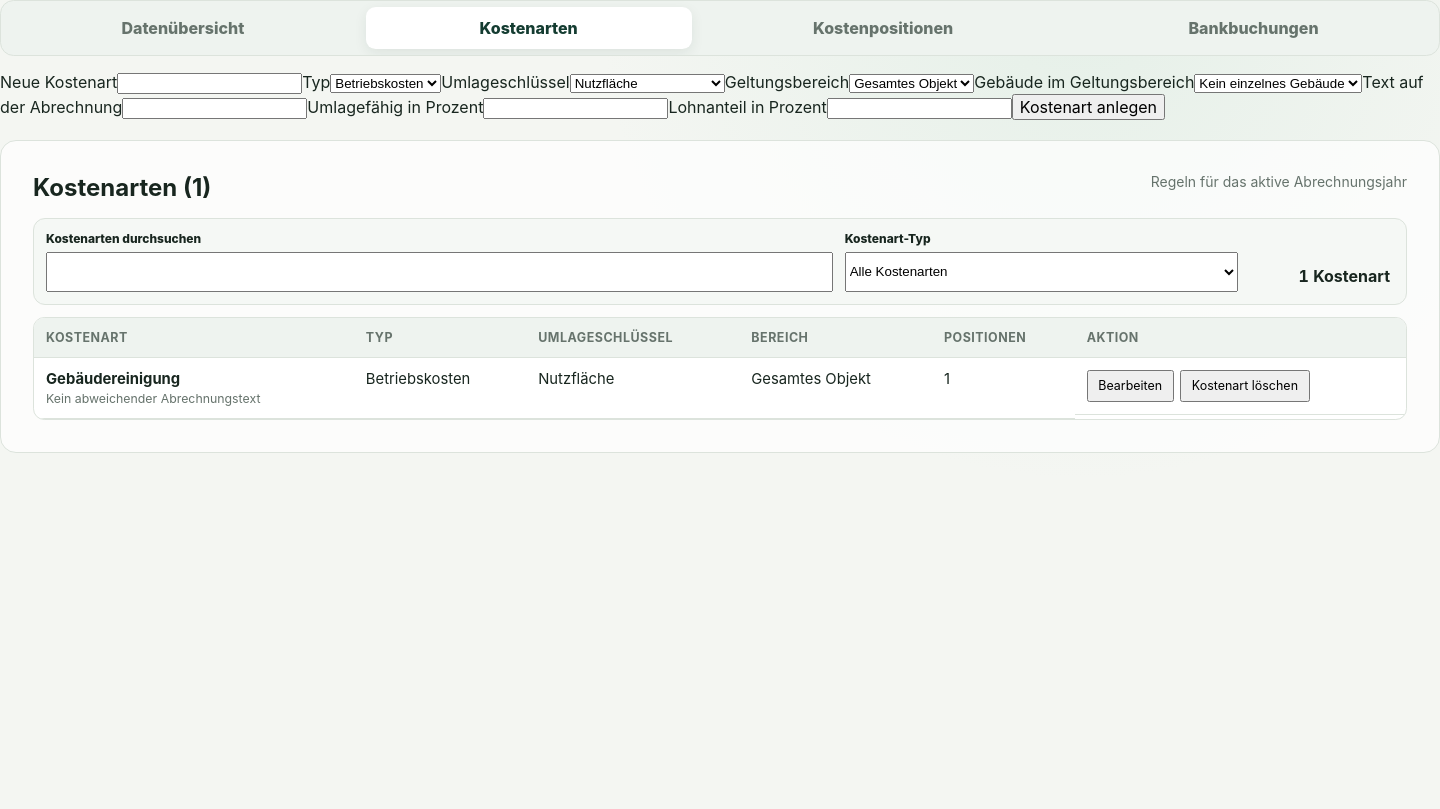
Test: WorkflowRoute › zeigt migrierte Kostenpositionen und Bankbuchungen des aktiven Jahres
This screenshot has width=1440, height=809.
Check: the heading "Kostenarten (1)" is shown, box [33,173,211,202]
What coordinates should you click on to do the following:
click the button "Kostenpositionen"
I would click on:
 (883, 28)
Its box is [699,7,1067,49].
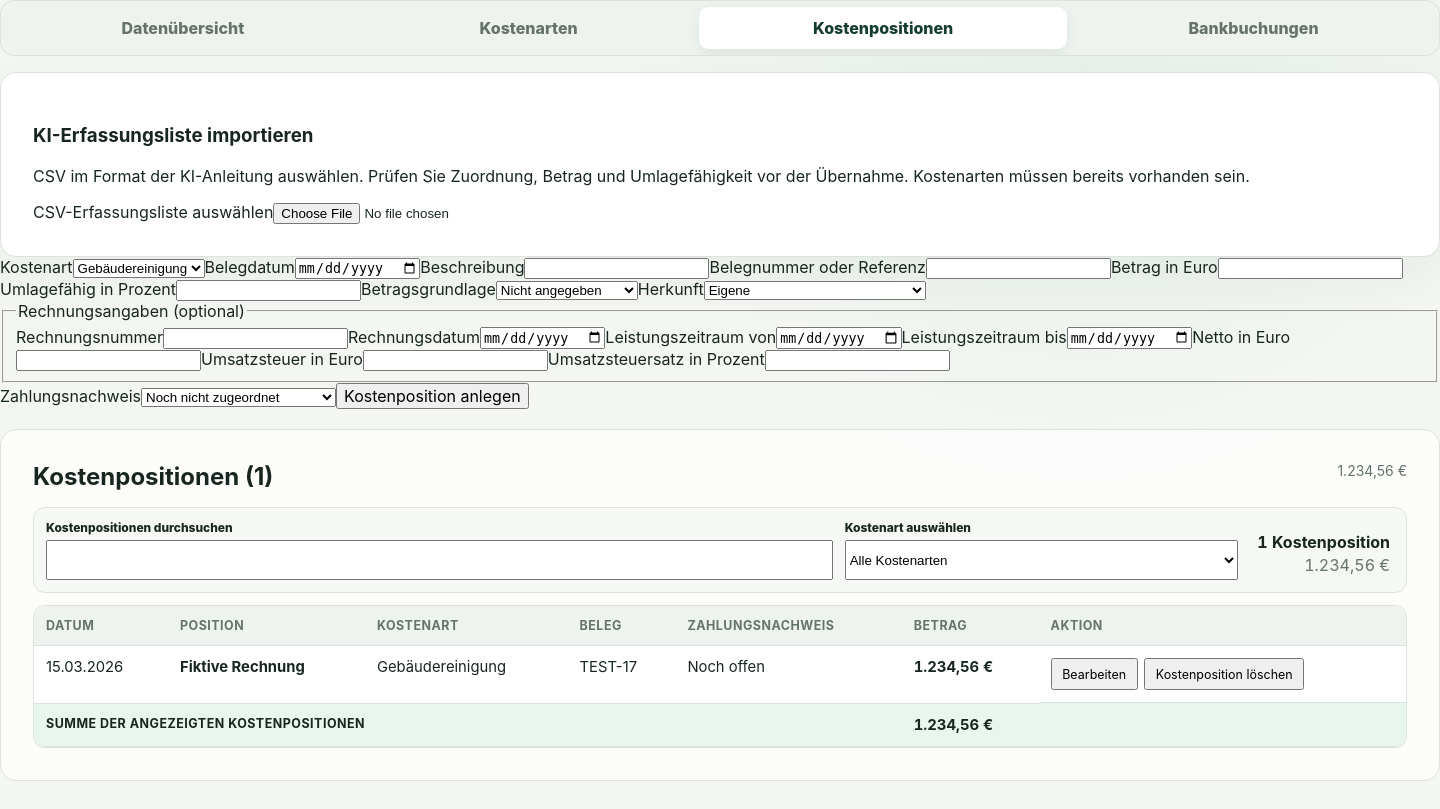
Check: the heading "Kostenpositionen (1)" is shown, box [33,462,273,491]
Check: the text "Fiktive Rechnung" is shown, box [180,658,305,676]
Check: the text "TEST-17" is shown, box [568,646,675,703]
What coordinates should you click on to do the following:
click the button "Bankbuchungen"
I would click on:
 (1254, 28)
Its box is [1074,7,1433,49].
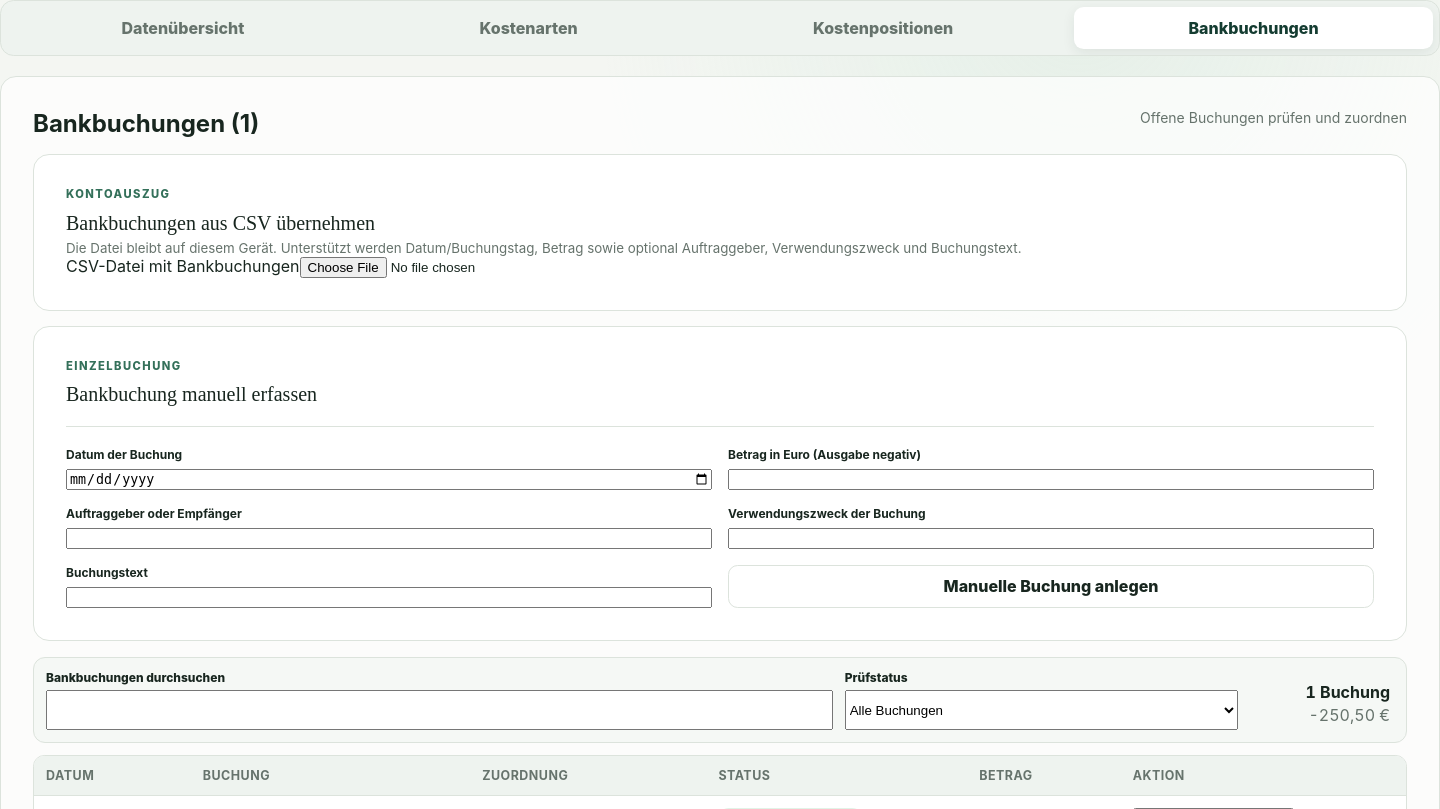
Check: the heading "Bankbuchungen (1)" is shown, box [33,109,259,138]
Check: the text "-250,50 €" is shown, box [1308,705,1390,725]
